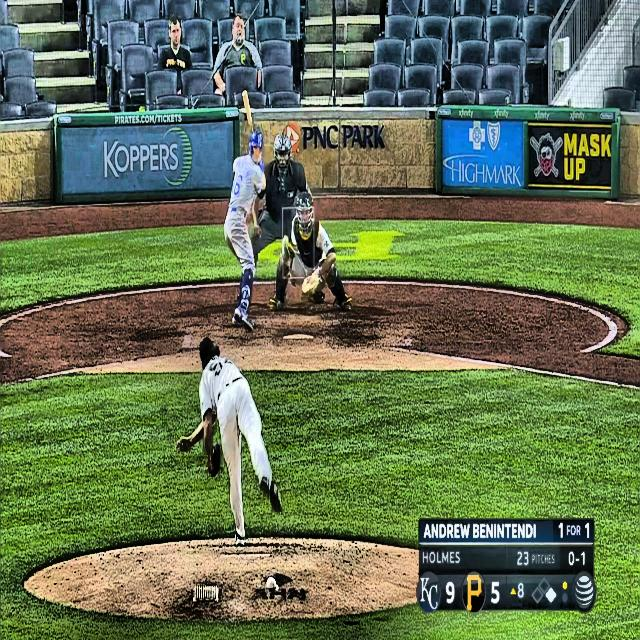baseball: (282, 235, 289, 248)
